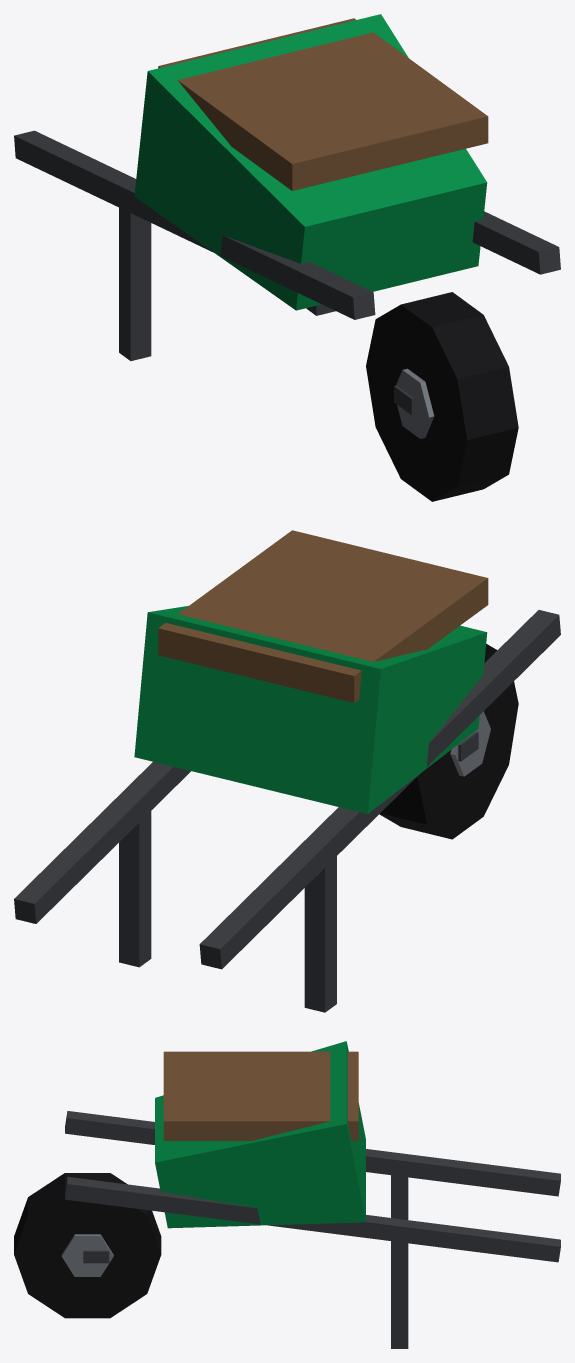
The model's file is Carretilla.fbx.
The picture shows the model from 3 angles, top to bottom: view 1: azimuth 30°, elevation 25°; view 2: azimuth 150°, elevation 25°; view 3: azimuth 270°, elevation 25°; orthographic projection. The views are drawn at different scales.
Parts seen in each view (by area): view 1: Carretilla; view 2: Carretilla; view 3: Carretilla.
Boxes of the visible parts, left/top/right/bottom form: Carretilla: left=14, top=14, right=560, bottom=501; Carretilla: left=14, top=530, right=560, bottom=1012; Carretilla: left=14, top=1041, right=560, bottom=1348.
Size of the model in its own units: 0.4525 by 0.5853 by 1.26.
